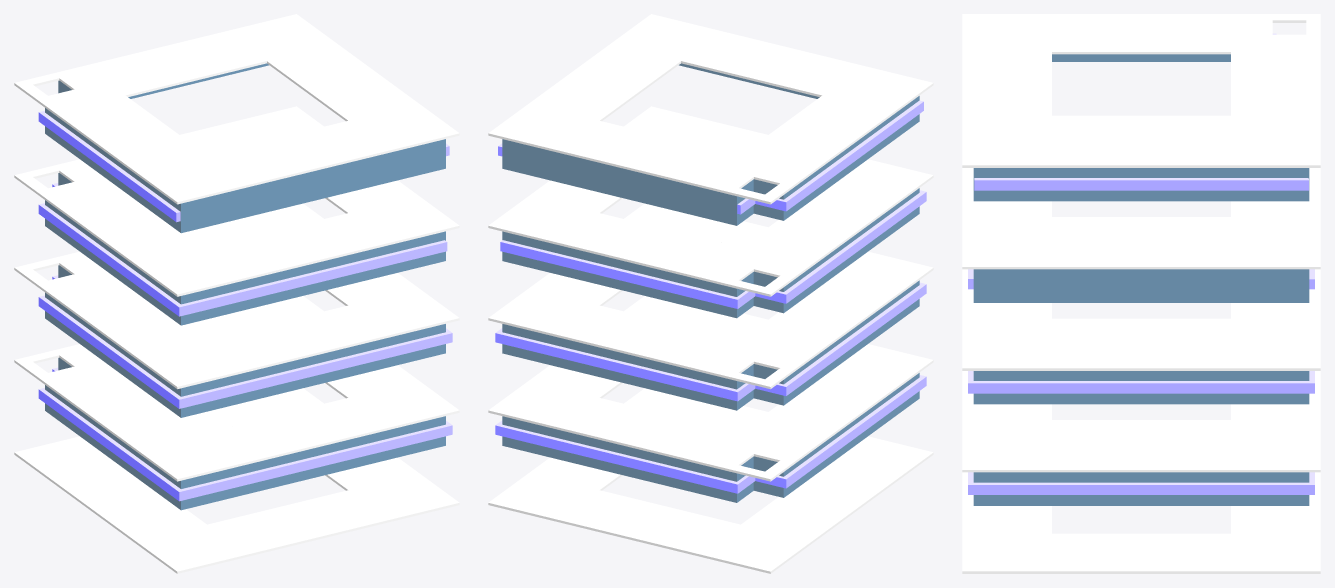
The model's file is FinalStudzArtcadeNeon.gltf.
3 renders of one model, left to right at view 1: azimuth 30°, elevation 25°; view 2: azimuth 150°, elevation 25°; view 3: azimuth 270°, elevation 25°, orthographic. The views are drawn at different scales.
Parts seen in each view (by area): view 1: Ground Floor.001; view 2: Ground Floor.001; view 3: Ground Floor.001.
Boxes of the visible parts, bbox=[...] form: Ground Floor.001: bbox=[14, 14, 459, 573]; Ground Floor.001: bbox=[488, 14, 933, 573]; Ground Floor.001: bbox=[962, 14, 1320, 573].
Size of what is drawn, in the model's own units: 32 by 40.25 by 32.
